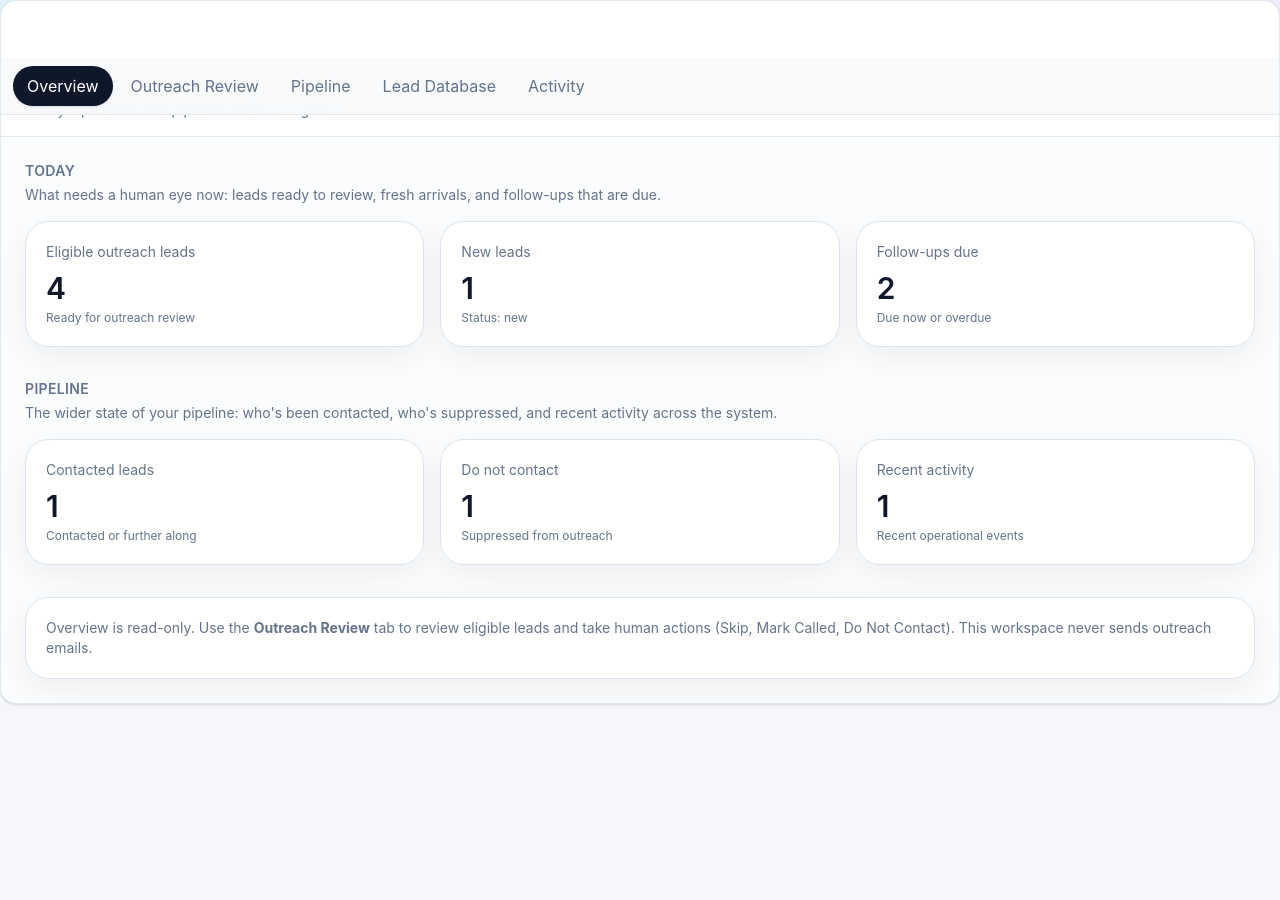
Test: SalesWorkspaceClient › renders the Pipeline tab with the read-only MVP notice
Expected: the text "Eligible outreach leads" is shown, x1=46 y1=243 x2=195 y2=260
Click the tab "Pipeline": (321, 86) x1=277 y1=66 x2=365 y2=106
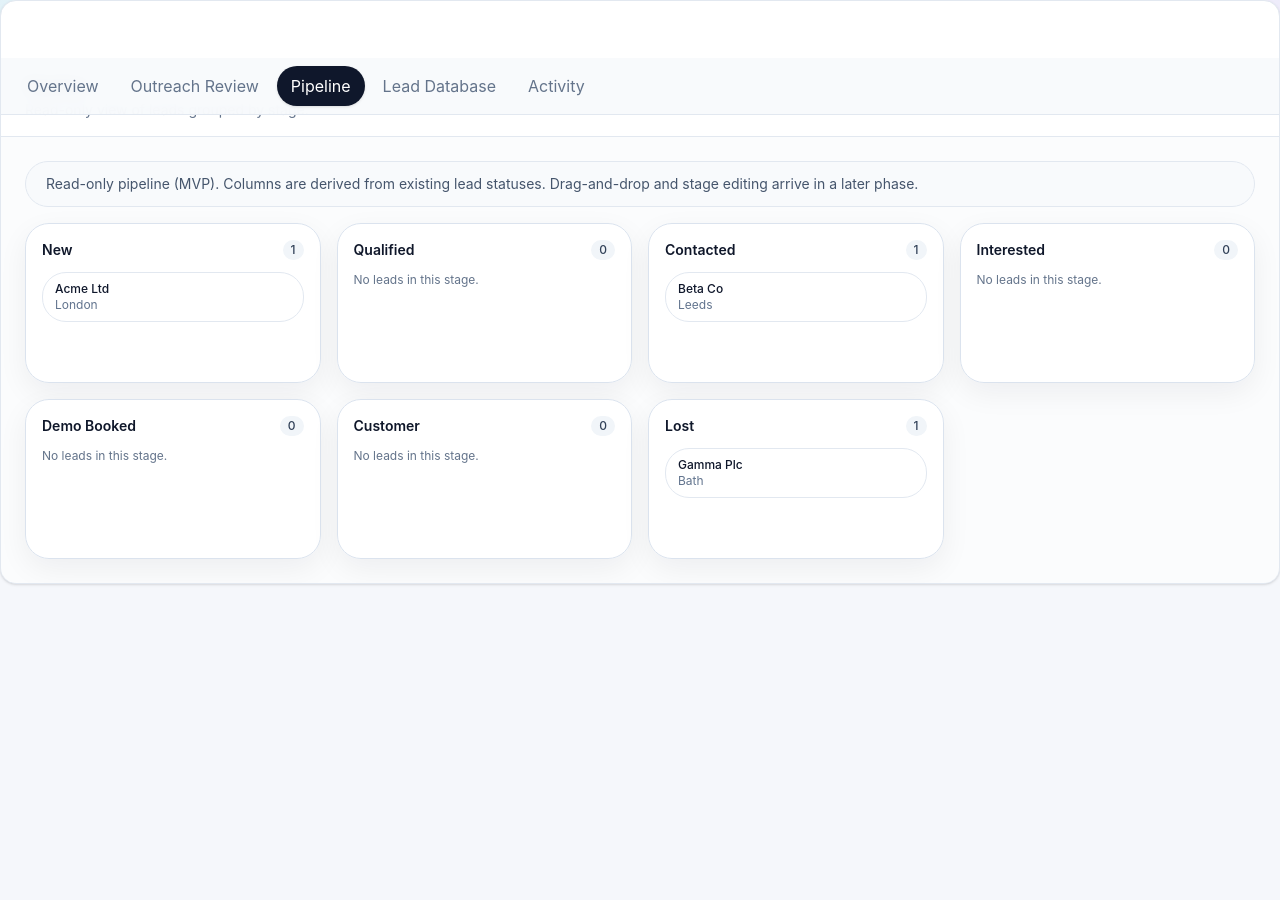
Expected: the text "Read-only pipeline (MVP)" is shown, x1=46 y1=175 x2=918 y2=192
Expected: the heading "Demo Booked" is shown, x1=42 y1=416 x2=136 y2=436
